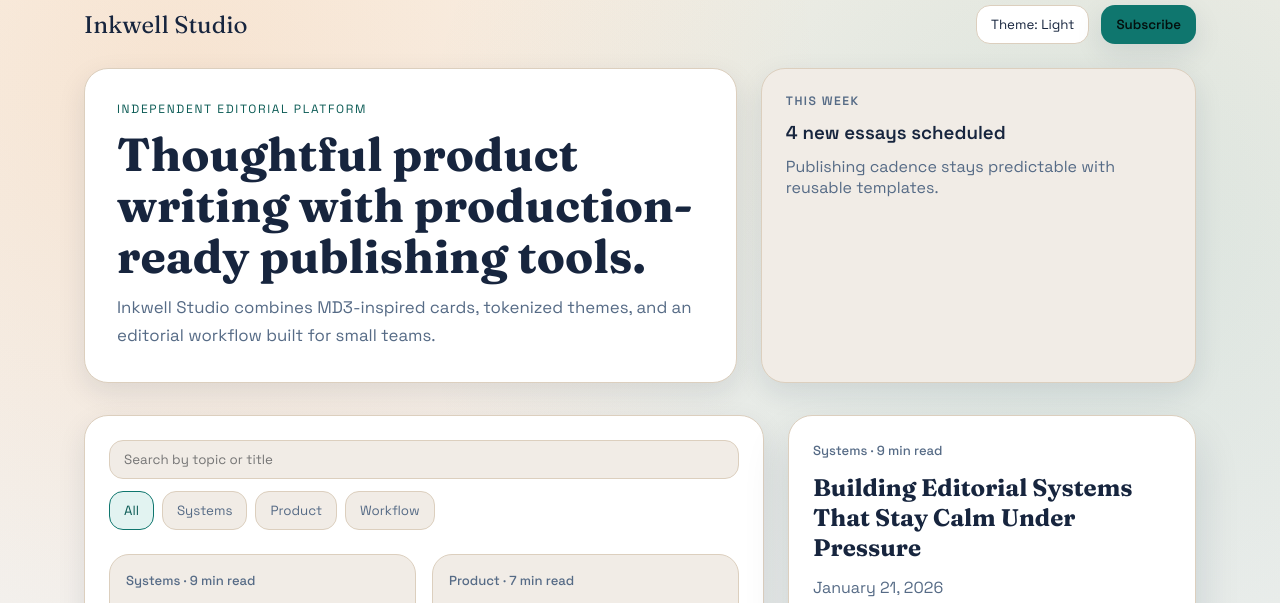
it: App › toggles theme and opens a different article
The image size is (1280, 603).
Click the button "Theme: Light" at x=1033, y=24, box [976,5,1089,44]
(page scrolled)
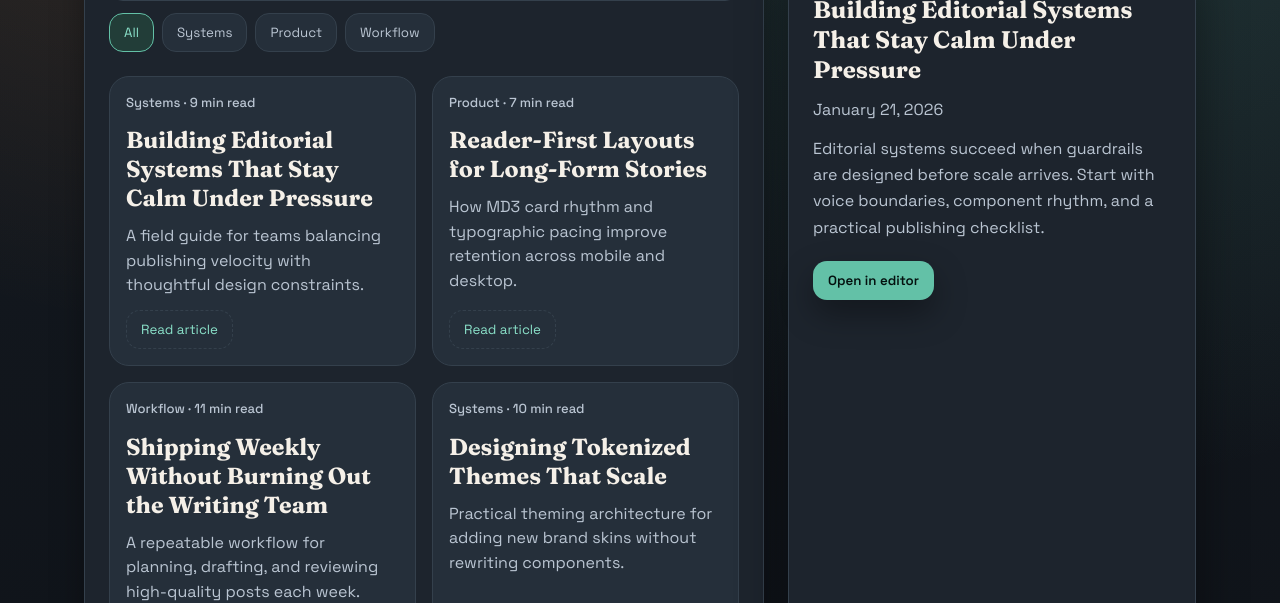
Click the button "Read article" below "7 min read" at x=502, y=330, box [449,310,556,349]
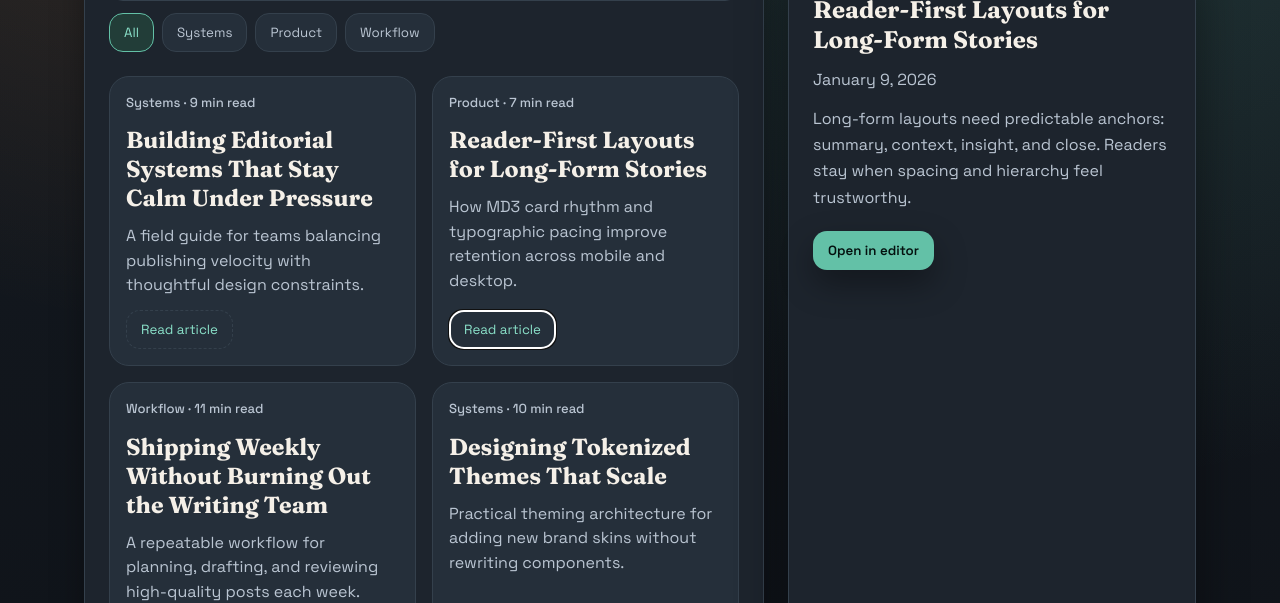
Now the text "January 9, 2026" is shown, box [813,69,936,90]
